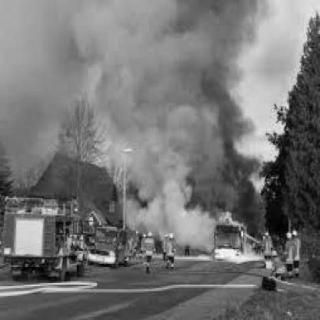Smoke: (86, 1, 278, 243)
